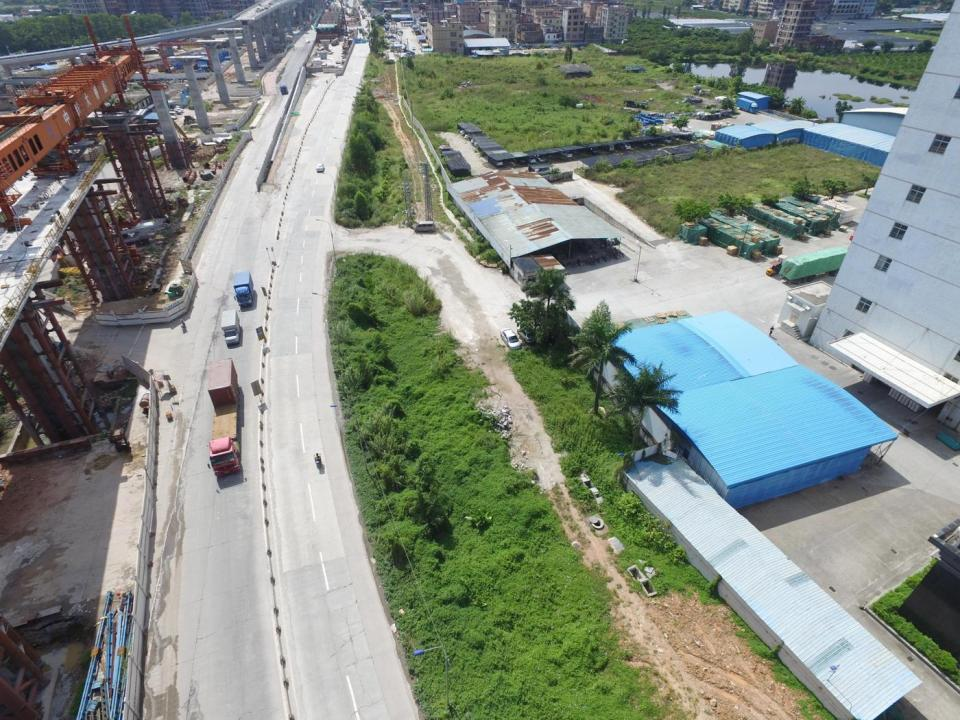car: (500, 328, 520, 352), (518, 328, 535, 343), (524, 151, 536, 164), (535, 166, 550, 176), (491, 155, 503, 167), (560, 149, 572, 158), (440, 148, 458, 154), (535, 152, 544, 163), (645, 138, 656, 147), (586, 146, 598, 154), (615, 142, 625, 151), (660, 136, 671, 144), (439, 145, 453, 151), (620, 142, 630, 150), (518, 153, 525, 164), (604, 145, 615, 152), (316, 164, 323, 172), (638, 141, 646, 147)
truck: (48, 220, 156, 262), (210, 359, 242, 477), (780, 241, 859, 285), (221, 310, 241, 348), (234, 272, 253, 307), (737, 97, 758, 114), (280, 83, 286, 94)
van: (414, 222, 435, 233)
